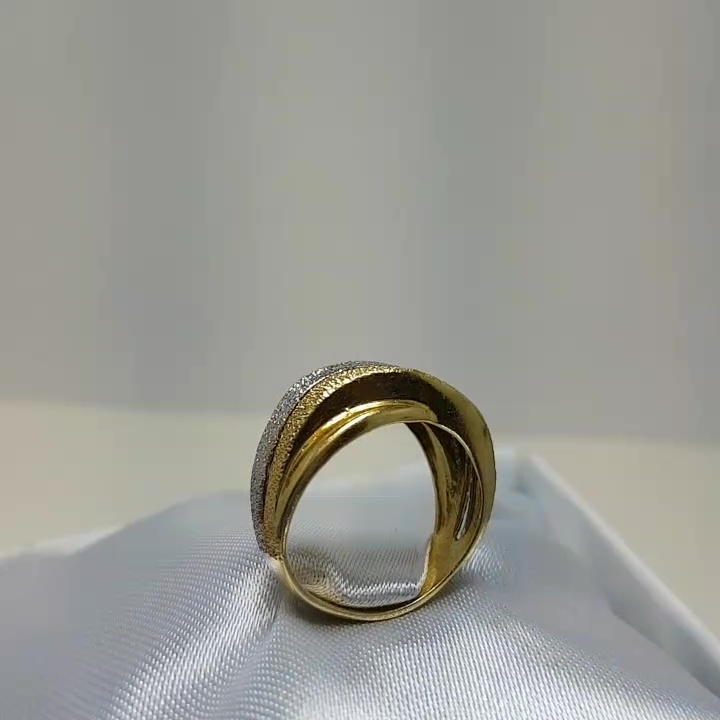Ring 5: (235, 339, 510, 627)
